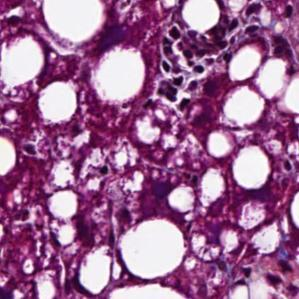inflammation: (153, 24, 213, 90)
